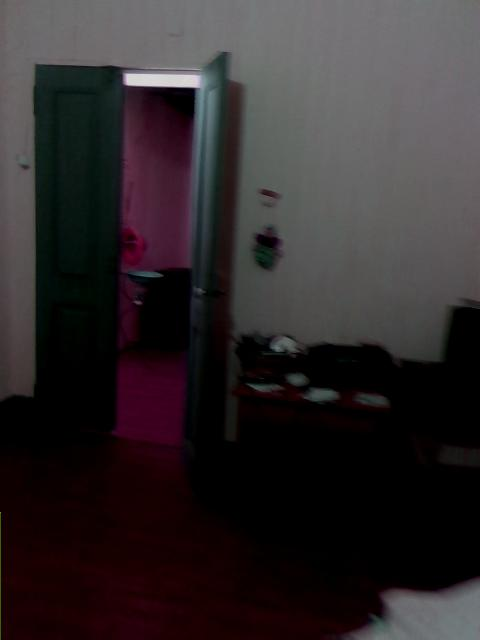open_door: (36, 51, 228, 444)
